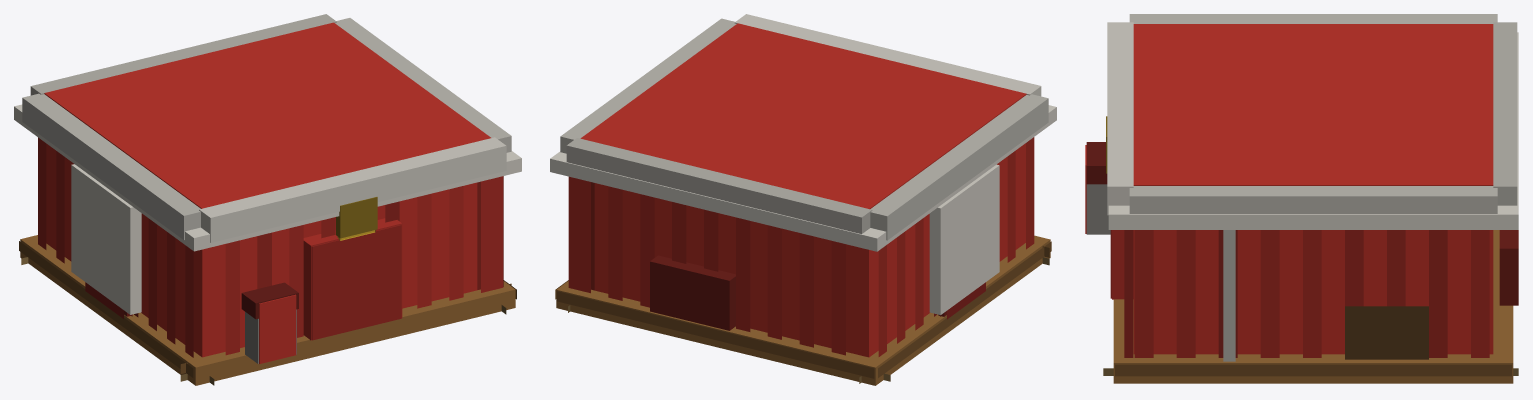
File: PrizeMachineSil.fbx
3 views of the same model, side by side, from view 1: azimuth 30°, elevation 25°; view 2: azimuth 150°, elevation 25°; view 3: azimuth 270°, elevation 25° (orthographic). The views are drawn at different scales.
Visible parts, largest first — view 1: PM_S_All; view 2: PM_S_All; view 3: PM_S_All.
Boxes of the visible parts, left/top/right/bottom form: PM_S_All: left=14, top=14, right=521, bottom=385; PM_S_All: left=550, top=14, right=1056, bottom=385; PM_S_All: left=1085, top=14, right=1518, bottom=383.
Bounding box in the file's own units: 41.44 × 20 × 41.24.
